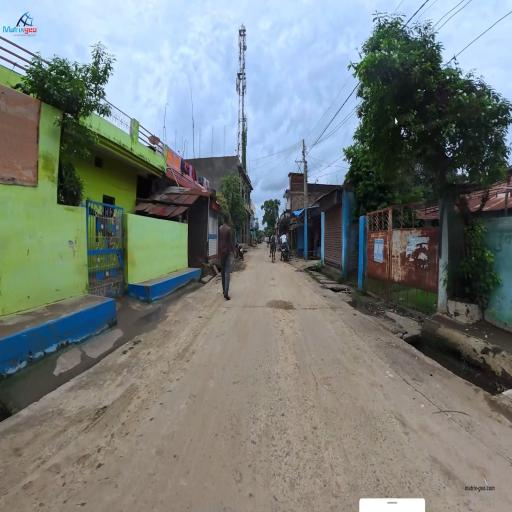longitudinal_crack: (338, 319, 438, 412), (237, 295, 329, 323)
